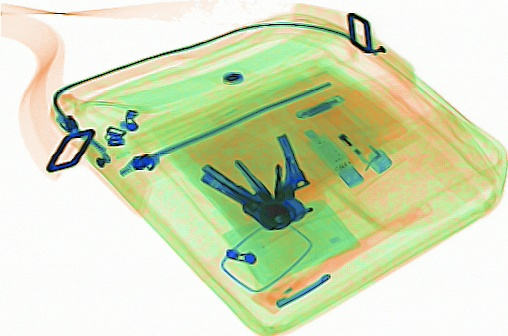lighter: (309, 99, 394, 178)
